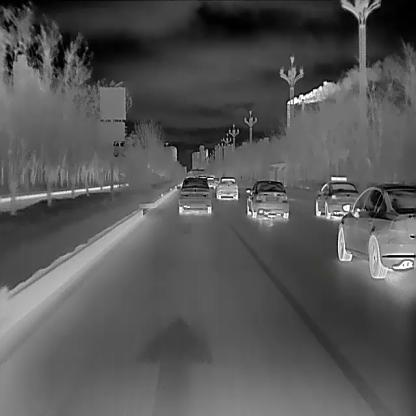car: (337, 183, 415, 279), (315, 175, 356, 220), (246, 179, 289, 220), (178, 178, 212, 214), (215, 176, 237, 200)
